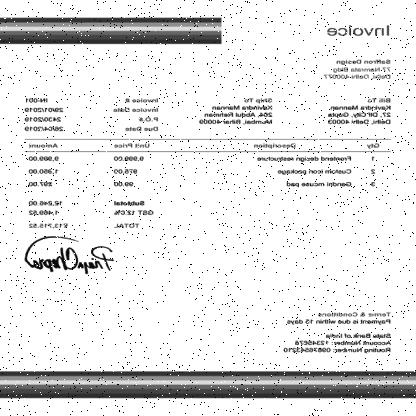Paragraph: (282, 310, 395, 356), (22, 96, 162, 132), (25, 198, 158, 232), (198, 96, 274, 126), (326, 96, 394, 126), (322, 57, 393, 81), (325, 24, 391, 38)
Table: (25, 139, 391, 191)
